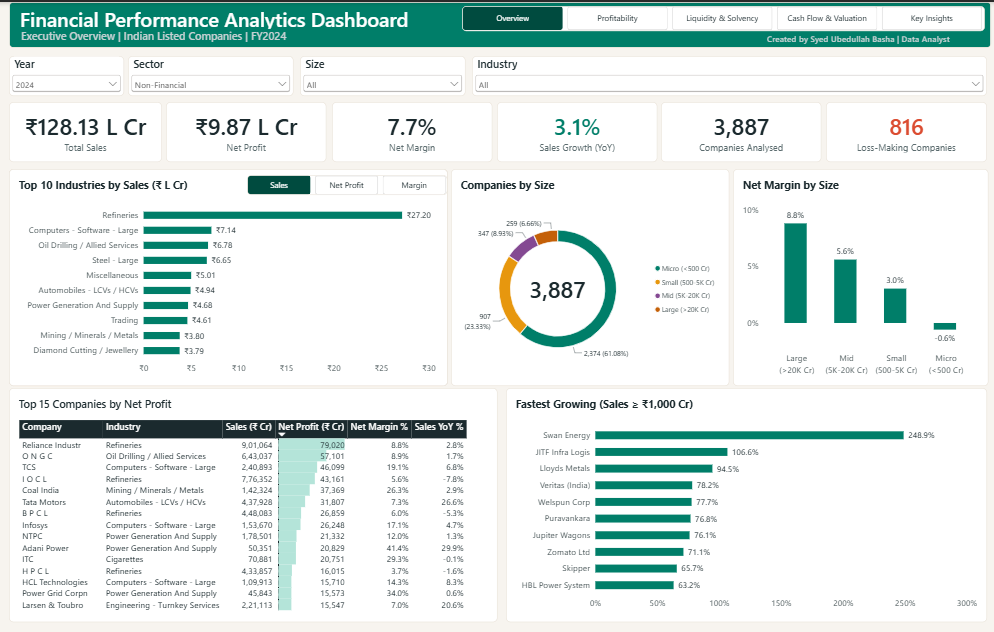

Layout of this report page (visuals, bound fields, positions):
{"tool":"powerbi","page":{"name":"Overview","canvas":[1750,1100],"ordinal":0},"visuals":[{"type":"slicer","fields":{"Values":["dim_company.Sector Type"]},"box":[233.9,93.7,289.2,70],"z":0},{"type":"slicer","title":"Year","fields":{"Values":["dim_year.fiscal_year"]},"box":[25.8,93.7,200.8,70],"z":1000},{"type":"shape","box":[26.2,0,1714.6,80.3],"z":2000},{"type":"textbox","title":"Financial Performance Analytics Dashboard","box":[45.4,7,707.1,40.2],"z":3000},{"type":"slicer","title":"Year","fields":{"Values":["dim_company.size_bucket"]},"box":[535,93.7,289.2,70],"z":4000},{"type":"slicer","title":"Year","fields":{"Values":["dim_company.industry"]},"box":[834.6,94.4,899.2,69.8],"z":5000},{"type":"card","fields":{"Values":["_Measures.Sales (L Cr)"]},"box":[25.8,175,267.1,105],"z":6000},{"type":"card","fields":{"Values":["_Measures.Net Profit (L Cr)"]},"box":[300.3,175,280,105],"z":7000},{"type":"card","fields":{"Values":["_Measures.Net Margin %"]},"box":[589.5,175,280,105],"z":8000},{"type":"card","fields":{"Values":["_Measures.Sales YoY %"]},"box":[878.7,175,280,105],"z":9000},{"type":"card","fields":{"Values":["_Measures.Companies"]},"box":[1164.2,175,280,105],"z":10000},{"type":"card","fields":{"Values":["_Measures.Loss Making Companies"]},"box":[1452.7,174.6,281.1,104.8],"z":11000},{"type":"clusteredBarChart","title":"Top 10 Industries by Net Profit (₹ L Cr)","fields":{"Category":["dim_company.industry"],"Y":["_Measures.Net Profit (L Cr)"]},"box":[25.8,291.1,766.3,379.5],"z":12000},{"type":"clusteredBarChart","title":"Top 10 Industries by Net Margin %","fields":{"Category":["dim_company.industry"],"Y":["_Measures.Net Margin % (5+ Cos)"]},"box":[25.8,291.1,766.3,379.5],"z":13000},{"type":"clusteredBarChart","title":"Top 10 Industries by Sales (₹ L Cr)","fields":{"Category":["dim_company.industry"],"Y":["_Measures.Sales (L Cr)"]},"box":[25.8,291.1,766.3,379.5],"z":14000},{"type":"donutChart","title":"Companies by Size","fields":{"Category":["dim_company.size_bucket"],"Y":["_Measures.Companies"]},"box":[797.6,291.1,486.3,379.5],"z":15000},{"type":"clusteredColumnChart","title":"Net Margin by Size","fields":{"Category":["dim_company.size_bucket"],"Y":["_Measures.Net Margin %"]},"box":[1289.5,291.1,445.8,379.5],"z":16000},{"type":"tableEx","title":"Top 15 Companies by Net Profit","fields":{"Values":["dim_company.company_name","dim_company.industry","_Measures.Total Sales","_Measures.Total Net Profit","_Measures.Net Margin %","_Measures.Sales YoY %"]},"box":[25.8,674.2,852.9,408.9],"z":17000},{"type":"textbox","title":"Executive Overview | Indian Listed Companies | FY2024","box":[47.1,47.1,532.5,24.4],"z":18000},{"type":"bookmarkNavigator","box":[442.1,302.1,350,35],"z":19000},{"type":"clusteredBarChart","fields":{"Category":["dim_company.company_name"],"Y":["_Measures.Sales YoY % (Large Cos)"]},"box":[894,674,839.8,408.6],"z":20000},{"type":"pageNavigator","box":[817.1,7,913.2,43.7],"z":21000},{"type":"textbox","title":"Created by Syed Ubedullah Basha | Data Analyst","box":[1350.3,53.4,350,24],"z":22000}]}

Visuals, with their boxes in screenshot pixels (x1, y1, x2, y2), scaled from the page's 1750x1100 canvas onto the 994x632 screenshot:
slicer - dim_company.Sector Type: region(133, 54, 297, 94)
"Year" slicer: region(15, 54, 129, 94)
shape: region(15, 0, 989, 46)
"Financial Performance Analytics Dashboard" textbox: region(26, 4, 427, 27)
"Year" slicer: region(304, 54, 468, 94)
"Year" slicer: region(474, 54, 985, 94)
card - _Measures.Sales (L Cr): region(15, 101, 166, 161)
card - _Measures.Net Profit (L Cr): region(171, 101, 330, 161)
card - _Measures.Net Margin %: region(335, 101, 494, 161)
card - _Measures.Sales YoY %: region(499, 101, 658, 161)
card - _Measures.Companies: region(661, 101, 820, 161)
card - _Measures.Loss Making Companies: region(825, 100, 985, 161)
"Top 10 Industries by Net Profit (₹ L Cr)" clusteredBarChart: region(15, 167, 450, 385)
"Top 10 Industries by Net Margin %" clusteredBarChart: region(15, 167, 450, 385)
"Top 10 Industries by Sales (₹ L Cr)" clusteredBarChart: region(15, 167, 450, 385)
"Companies by Size" donutChart: region(453, 167, 729, 385)
"Net Margin by Size" clusteredColumnChart: region(732, 167, 986, 385)
"Top 15 Companies by Net Profit" tableEx: region(15, 387, 499, 622)
"Executive Overview | Indian Listed Companies | FY2024" textbox: region(27, 27, 329, 41)
bookmarkNavigator: region(251, 174, 450, 194)
clusteredBarChart - dim_company.company_name x _Measures.Sales YoY % (Large Cos): region(508, 387, 985, 622)
pageNavigator: region(464, 4, 983, 29)
"Created by Syed Ubedullah Basha | Data Analyst" textbox: region(767, 31, 966, 44)
